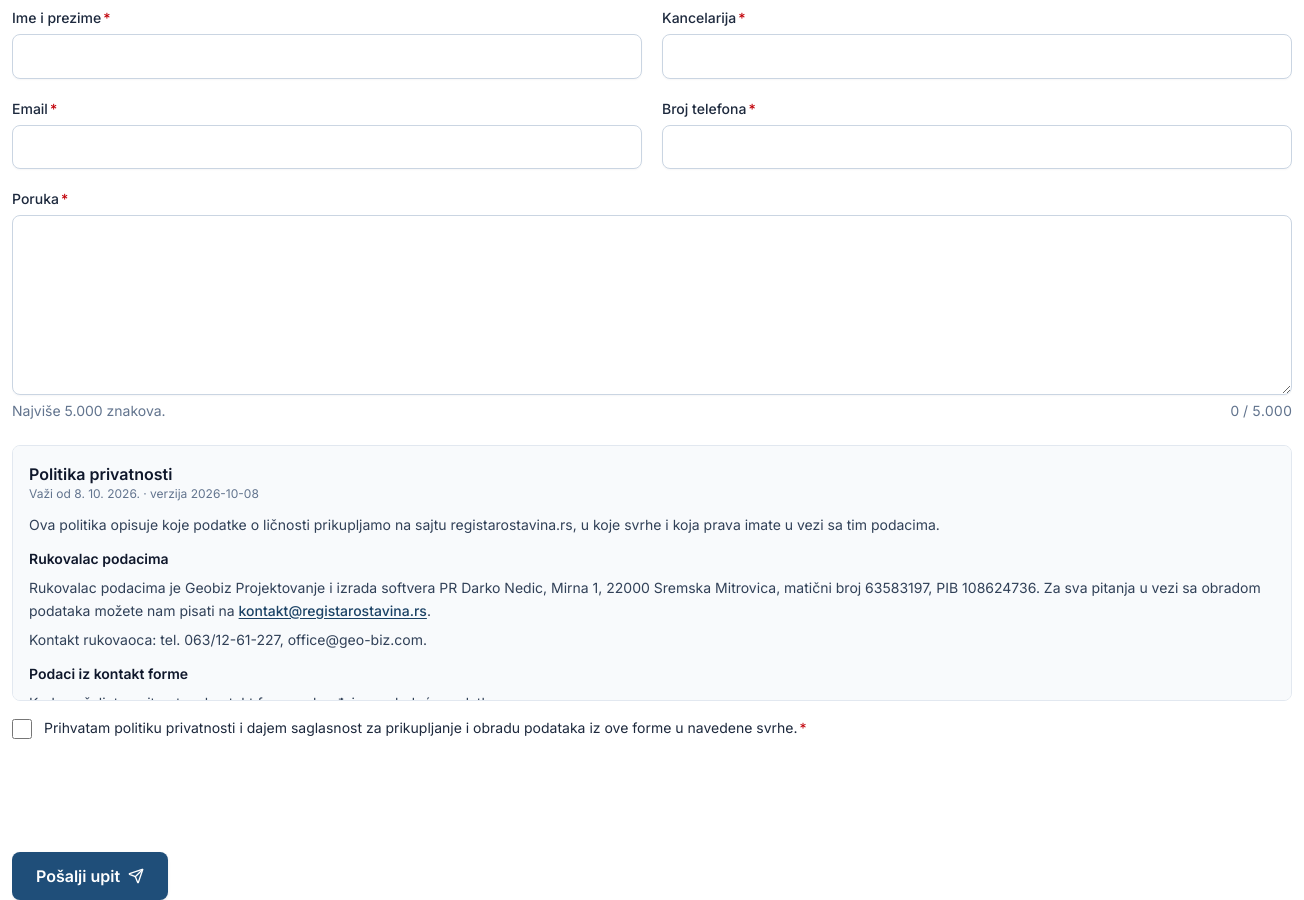
Test: Kontakt forma – validacija › greške nestaju dok korisnik ispravlja polja
(page scrolled)
Click the button "Pošalji upit" at x=90, y=876, box [12, 852, 168, 899]
(page scrolled)
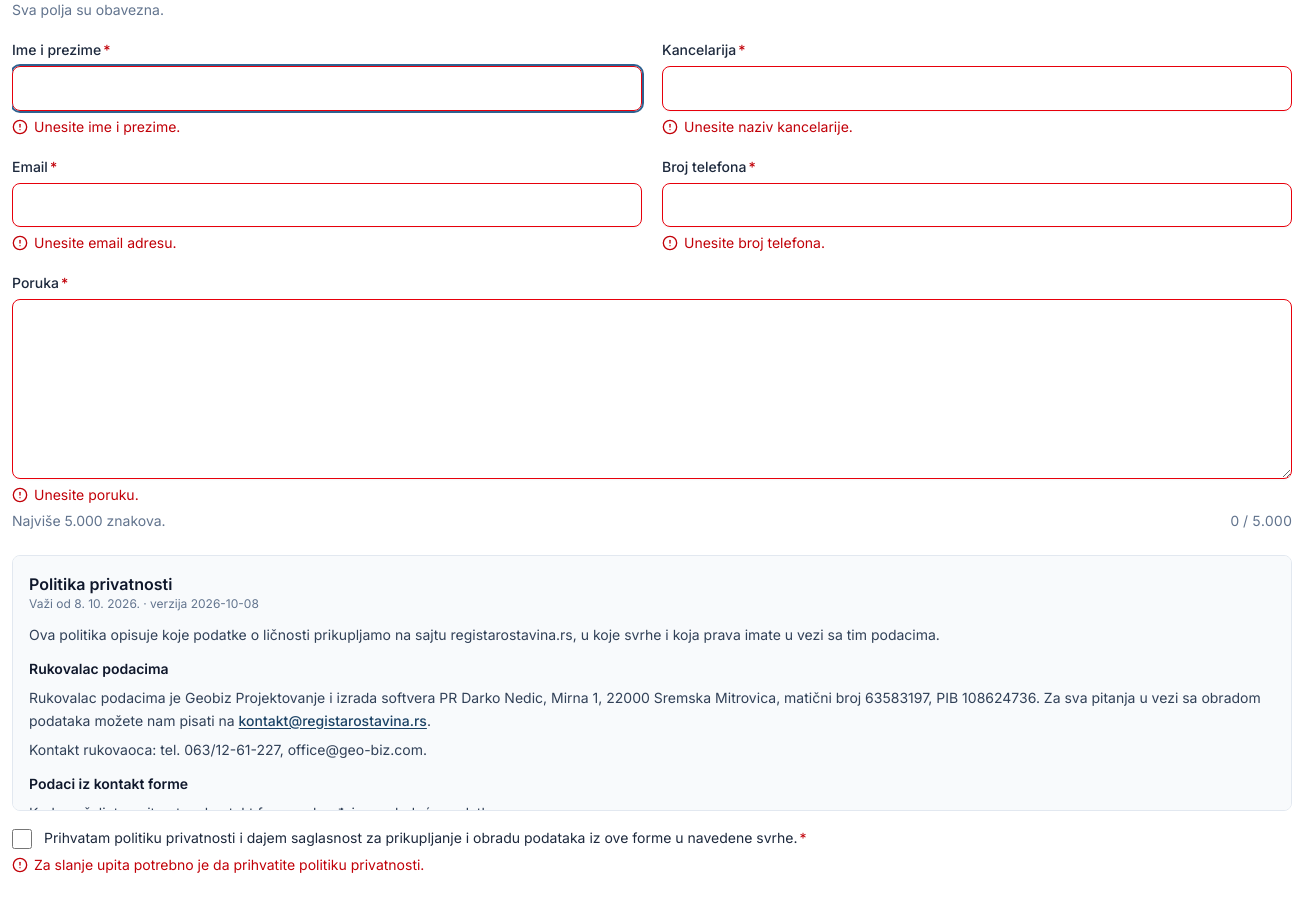
Expected: the text "Unesite ime i prezime." is shown, [12, 118, 180, 134]
Type "Petar" into the field labelled "Ime i prezime*" at x=327, y=88, box [12, 66, 642, 110]
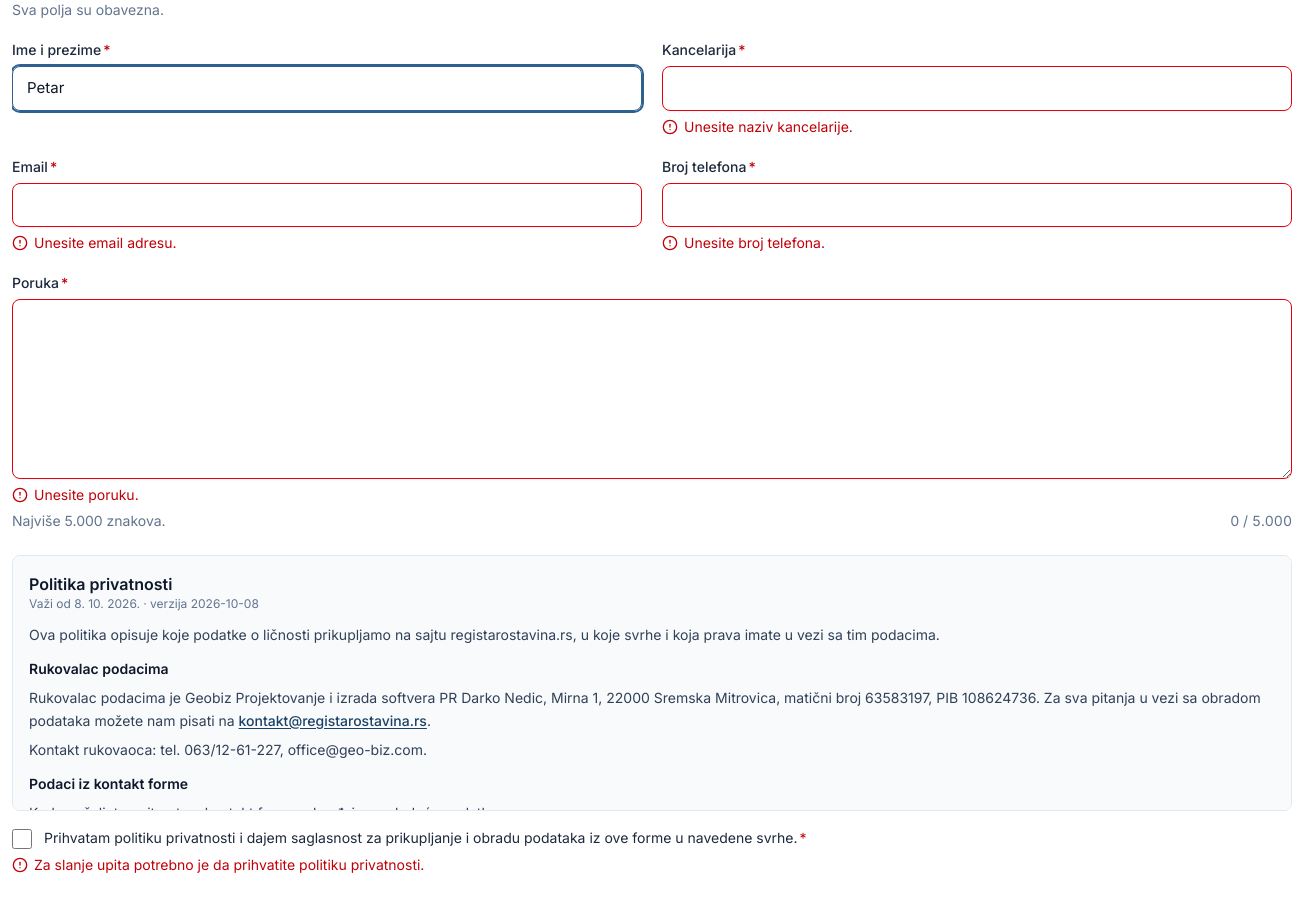
Expected: the text "Unesite naziv kancelarije." is shown, [662, 118, 853, 134]
Expected: the text "Unesite ime i prezime." is gone
